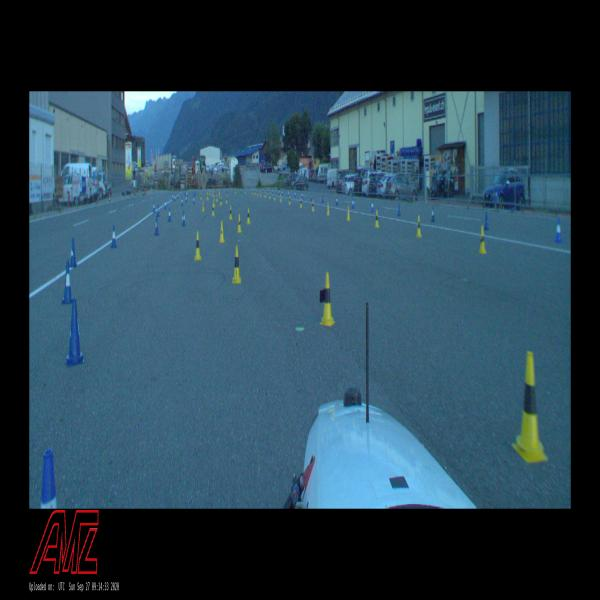blue_cone: (65, 300, 84, 366), (39, 450, 57, 509), (62, 262, 72, 303), (69, 238, 77, 266), (555, 218, 562, 242), (111, 225, 117, 246), (154, 215, 159, 235), (484, 212, 489, 230), (431, 207, 435, 221), (182, 210, 185, 226), (168, 207, 171, 221), (371, 200, 374, 212), (164, 199, 167, 210), (321, 194, 324, 203), (310, 192, 313, 201), (398, 204, 400, 216), (157, 205, 159, 216), (181, 196, 183, 206), (352, 198, 354, 208), (336, 196, 338, 206), (153, 202, 155, 211), (185, 195, 187, 202), (193, 196, 194, 204), (302, 191, 303, 199), (295, 192, 296, 198), (186, 191, 187, 197)
yellow_cone: (511, 351, 548, 461), (320, 273, 335, 326), (232, 245, 242, 283), (194, 232, 202, 260), (479, 226, 486, 253), (416, 216, 422, 238), (220, 221, 224, 243), (236, 215, 241, 232), (246, 208, 251, 224), (375, 210, 379, 228), (229, 206, 232, 219), (347, 207, 350, 220), (326, 203, 329, 215), (202, 201, 205, 211), (212, 204, 214, 216), (312, 200, 314, 211), (300, 198, 302, 208), (213, 198, 215, 208), (220, 197, 222, 205), (280, 194, 282, 202), (288, 196, 290, 204), (226, 195, 228, 203), (206, 193, 208, 200), (200, 192, 202, 199), (216, 195, 218, 202), (264, 191, 266, 198), (207, 193, 209, 200), (260, 190, 262, 196), (256, 190, 258, 196), (213, 192, 215, 196), (269, 192, 270, 198), (274, 194, 275, 200), (212, 190, 212, 195)
